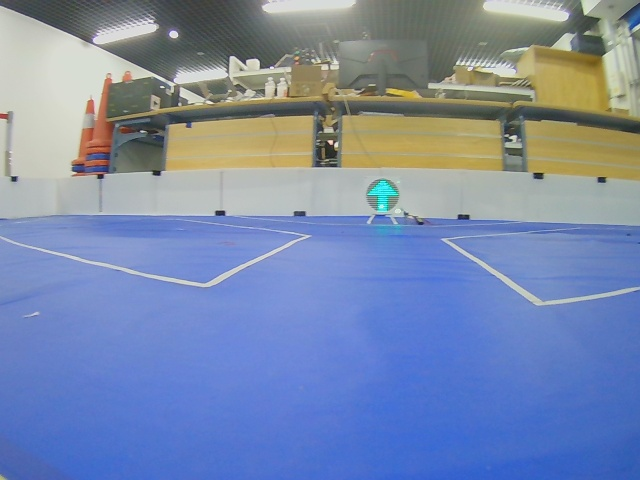straight_green: (366, 179, 400, 214)
